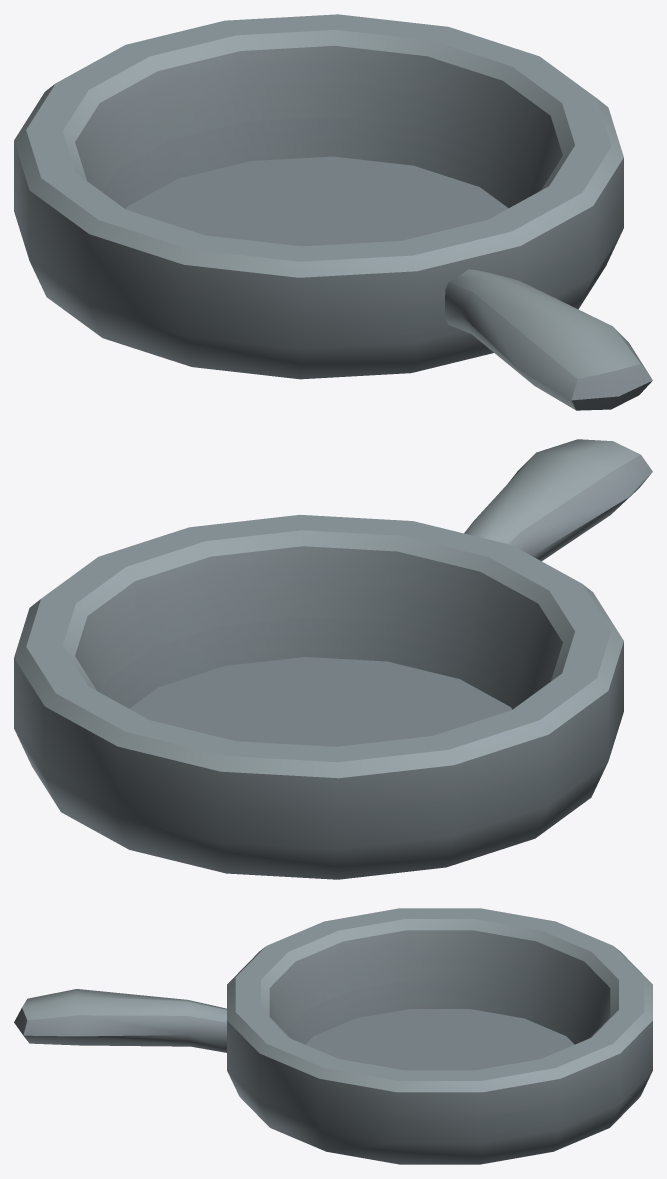
File: kaykit-restaurant-bits-pan-a.glb
The picture shows the model from 3 angles, top to bottom: view 1: azimuth 30°, elevation 25°; view 2: azimuth 150°, elevation 25°; view 3: azimuth 270°, elevation 25°; orthographic projection. The views are drawn at different scales.
Parts seen in each view (by area): view 1: pan_A; view 2: pan_A; view 3: pan_A.
Part boxes in pixels (box(x1,y1,x2,y2)): pan_A: box(14, 14, 652, 410); pan_A: box(14, 439, 652, 879); pan_A: box(14, 908, 652, 1164).
Size of the model in its own units: 1 by 0.2499 by 1.5.
Materials: 1 (1 with a texture image).
